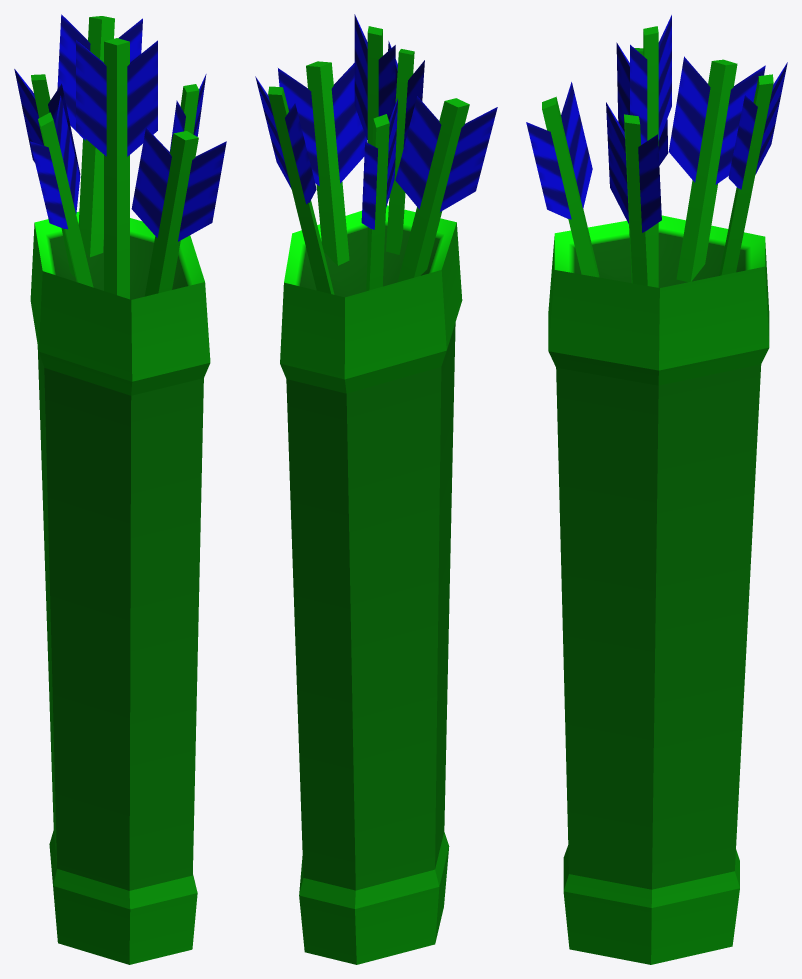
File: ArrowQuiverBasic.fbx
3 views of the same model, side by side, from view 1: azimuth 30°, elevation 25°; view 2: azimuth 150°, elevation 25°; view 3: azimuth 270°, elevation 25° (orthographic).
Parts seen in each view (by area): view 1: ArrowQuiverBasic; view 2: ArrowQuiverBasic; view 3: ArrowQuiverBasic.
Part boxes in pixels (box(x1,y1,x2,y2)): ArrowQuiverBasic: box(14, 14, 226, 964); ArrowQuiverBasic: box(255, 14, 497, 964); ArrowQuiverBasic: box(526, 15, 787, 964).
Size of the model in its own units: 18.57 by 80.11 by 21.06.
